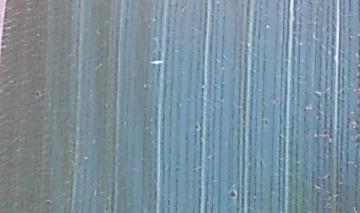tarspot: (191, 121, 203, 134), (259, 115, 272, 127), (32, 88, 43, 100), (228, 187, 238, 200)
